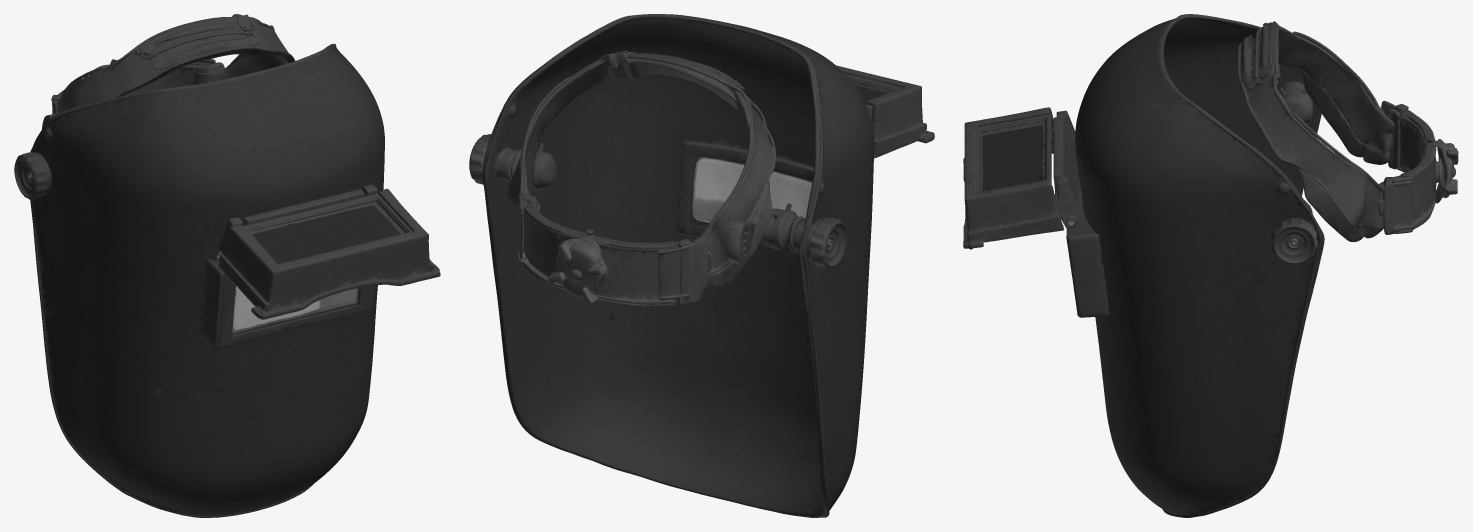
The model's file is helmet-welding.glb.
3 views of the same model, side by side, from view 1: azimuth 30°, elevation 25°; view 2: azimuth 150°, elevation 25°; view 3: azimuth 270°, elevation 25° (orthographic). The views are drawn at different scales.
Parts seen in each view (by area): view 1: mesh_node; view 2: mesh_node; view 3: mesh_node.
Boxes of the visible parts, x1,y1,x2,y2 form: mesh_node: (14, 14, 440, 517); mesh_node: (469, 14, 934, 517); mesh_node: (963, 14, 1458, 517).
Bounding box in the file's own units: 1.43 × 1.88 × 1.87.
Materials: 1 (1 with a texture image).
